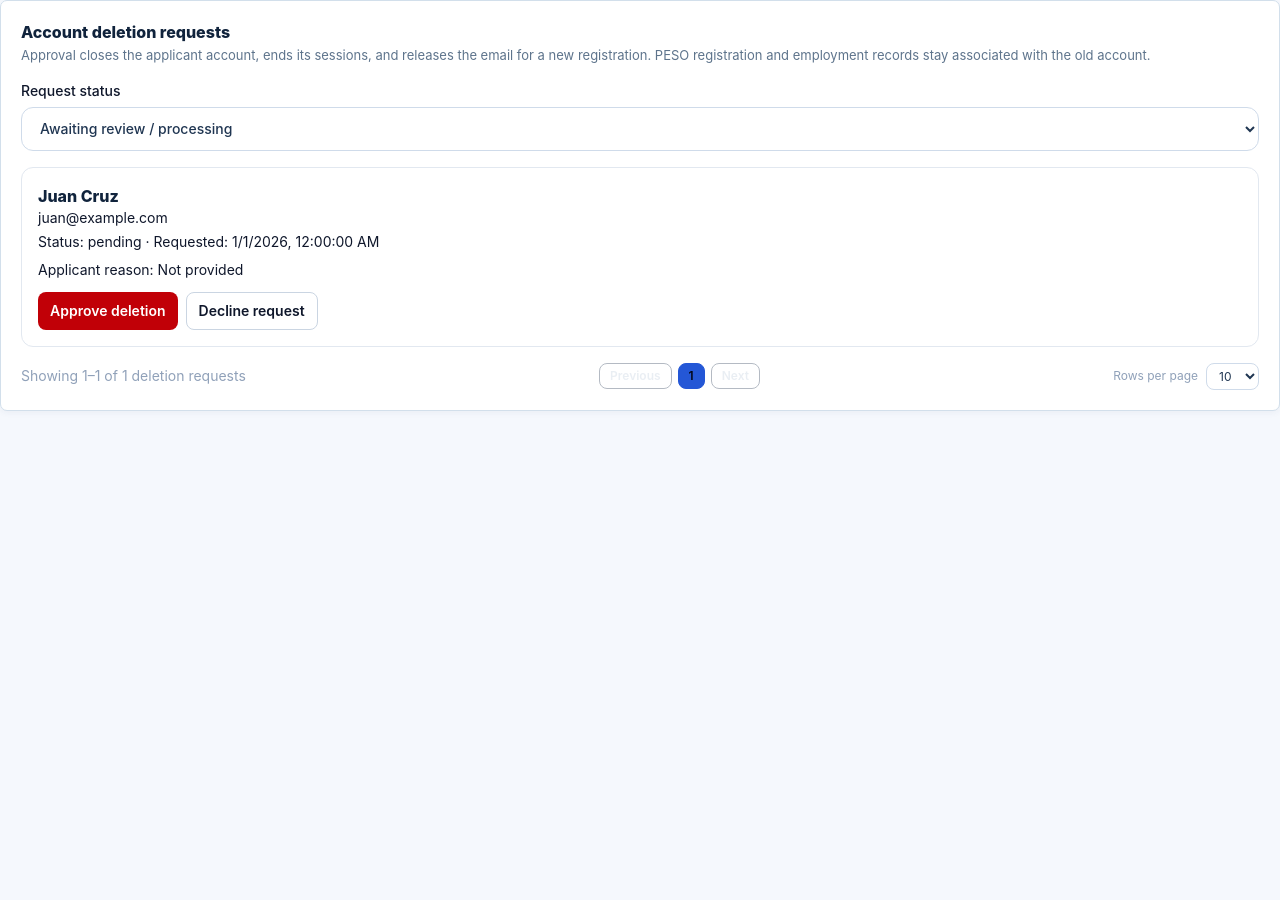
Scenario: account deletion screens › requires a reason to decline an account deletion request
The image size is (1280, 900).
Click the button "Decline request" at (252, 311), box [186, 292, 318, 330]
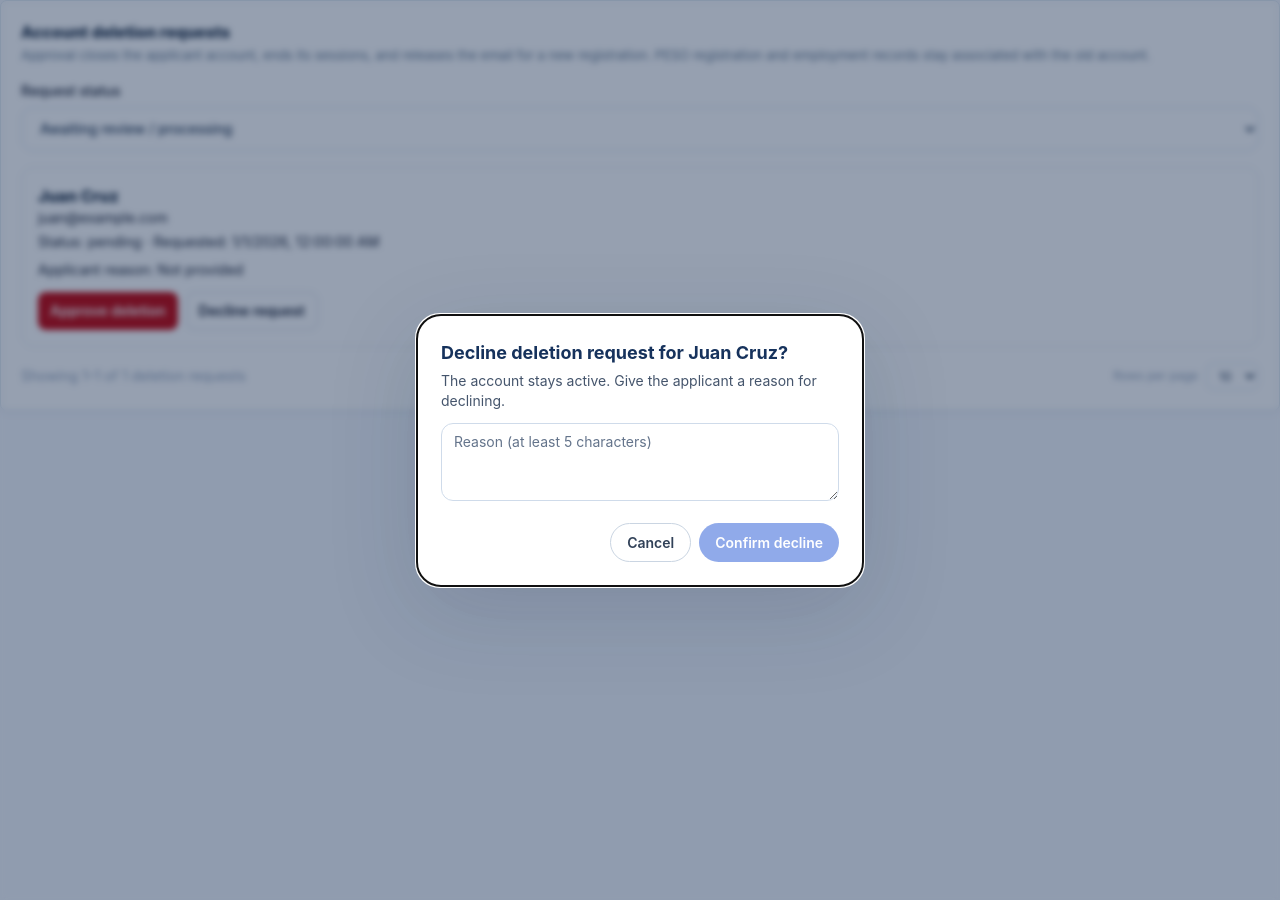
Result: the button "Confirm decline" is disabled at [699, 522, 839, 562]
Type "Please contact PESO first." into the text box labelled "Reason" at (640, 462), box [441, 422, 839, 500]
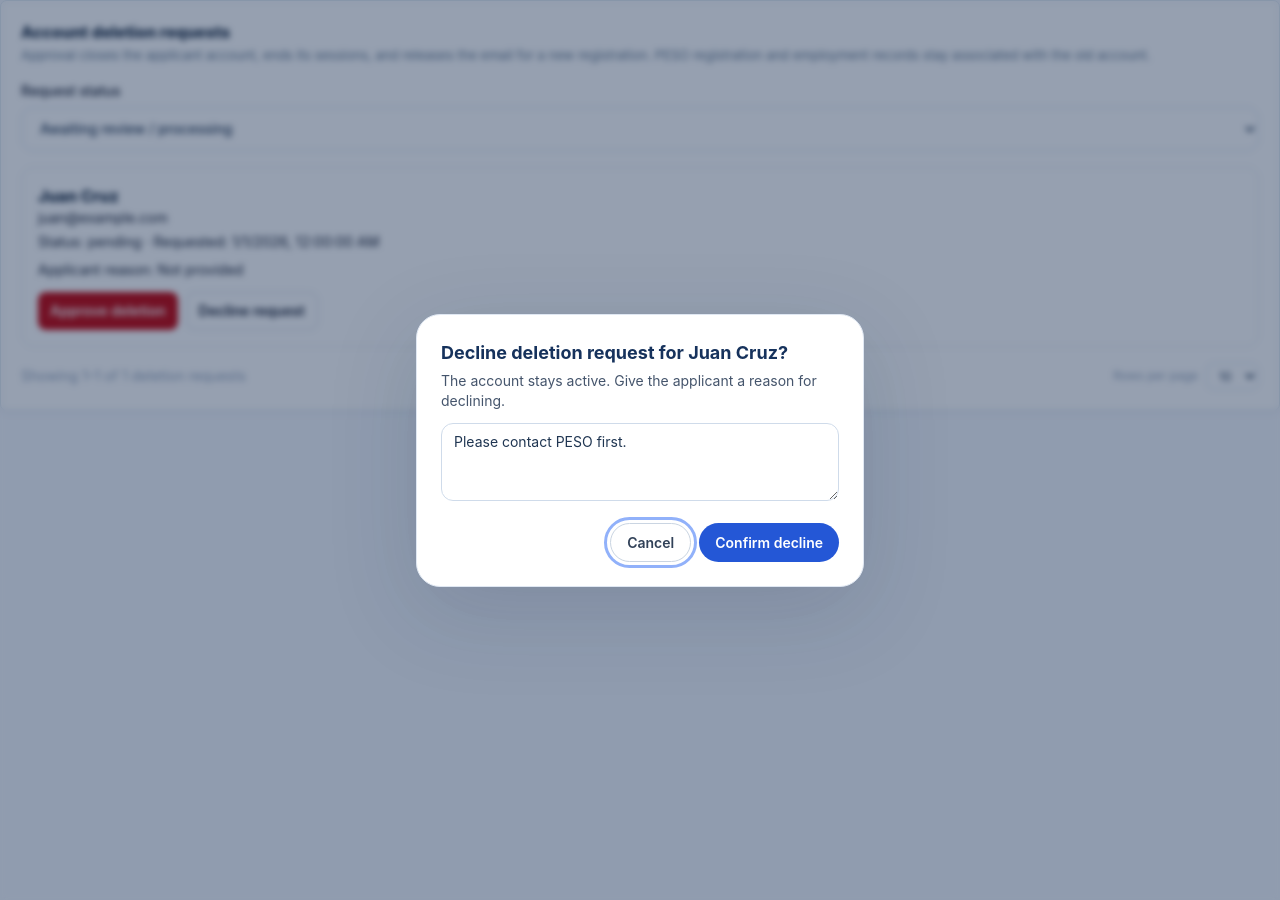
Result: the button "Confirm decline" is enabled at [699, 522, 839, 562]
